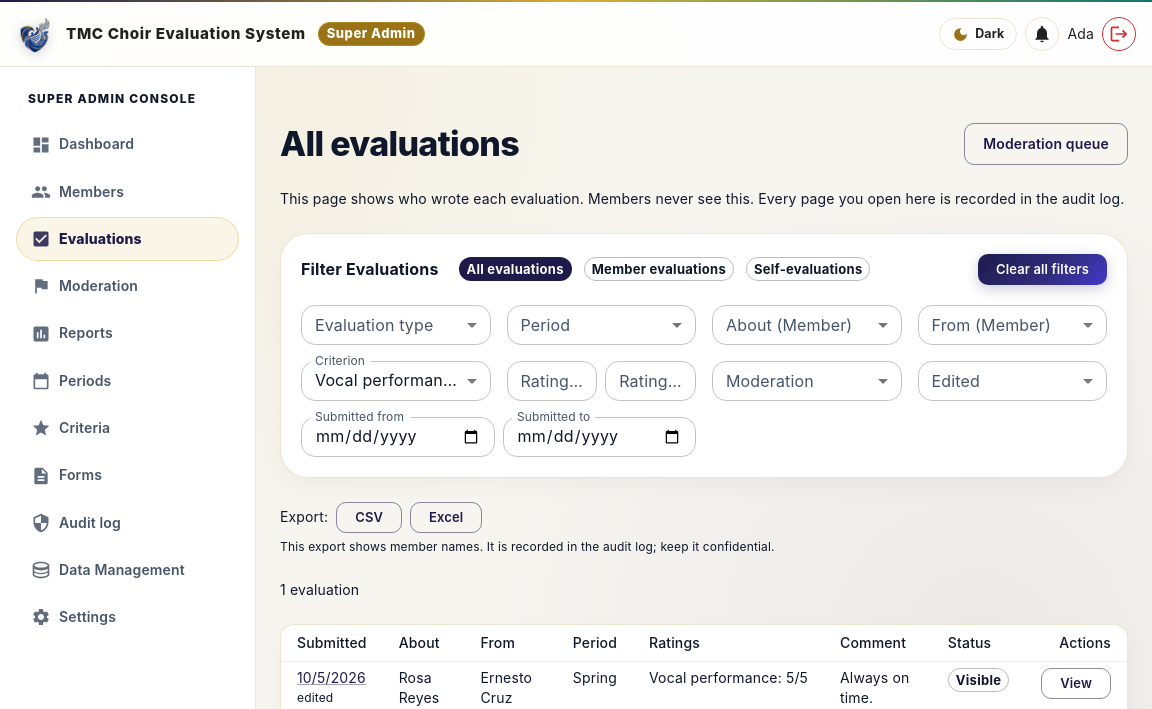
All evaluations browser (ADM-02/03) › isolates ratings to selected criterion and preserves filters on back navigation
The width and height of the screenshot is (1152, 709).
Expected: the text "Vocal performance: 5/5" is shown, x1=649 y1=668 x2=808 y2=688
Click the link "View": (1076, 684) x1=1041 y1=668 x2=1111 y2=699
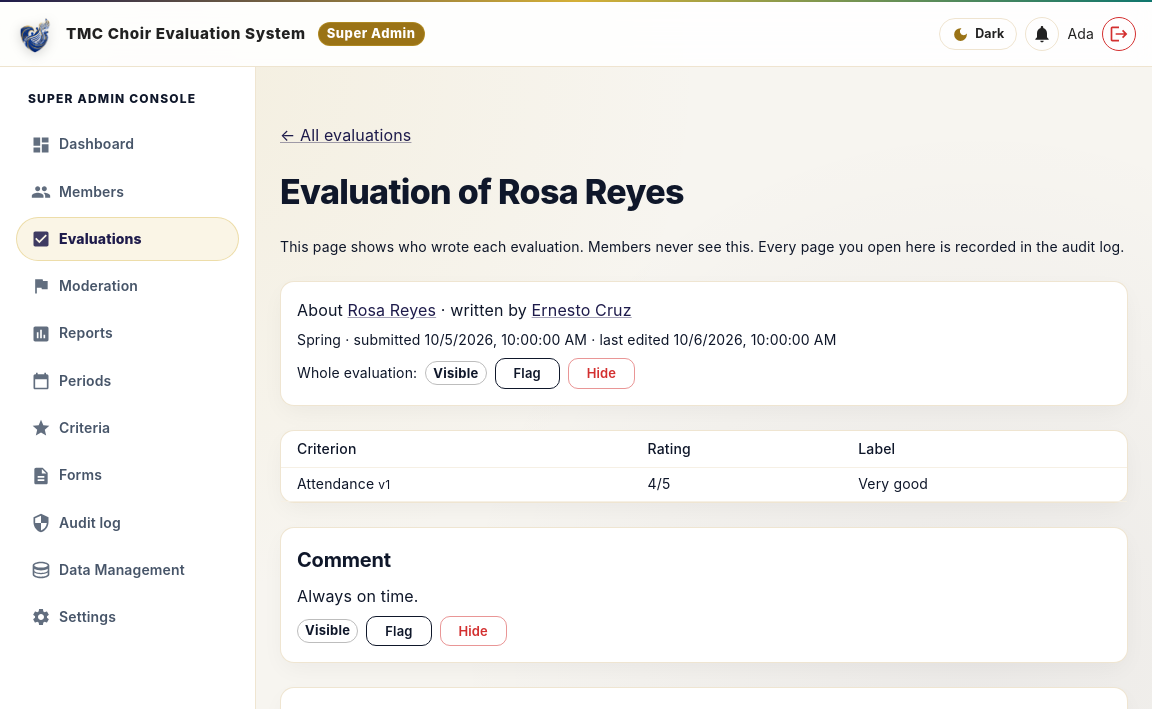
Expected: the heading "Evaluation of Rosa Reyes" is shown, x1=280 y1=171 x2=684 y2=213
